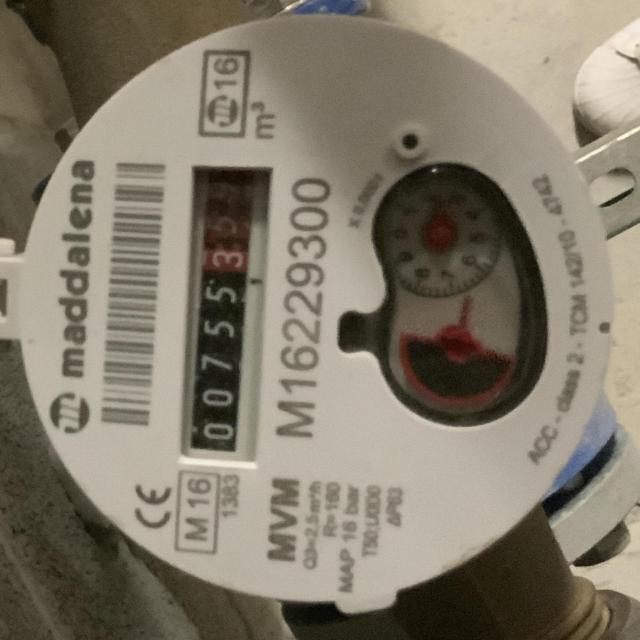gaz_meter: (21, 14, 615, 604)
indication: (184, 163, 271, 467)
